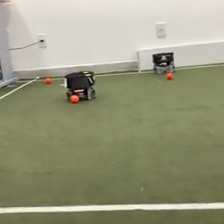ball: (68, 92, 80, 104), (165, 70, 174, 80), (44, 76, 52, 85)
goal: (135, 40, 224, 73)
robot: (62, 69, 99, 102), (152, 51, 175, 74)
